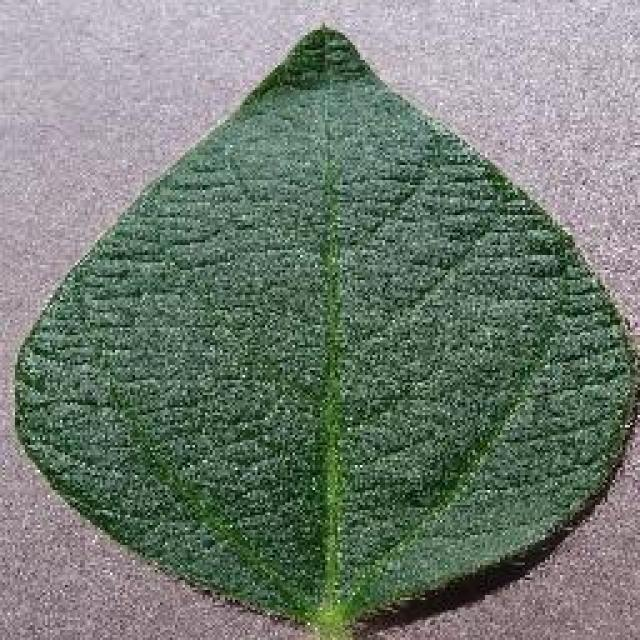Soy_healthy: (59, 99, 578, 538)
